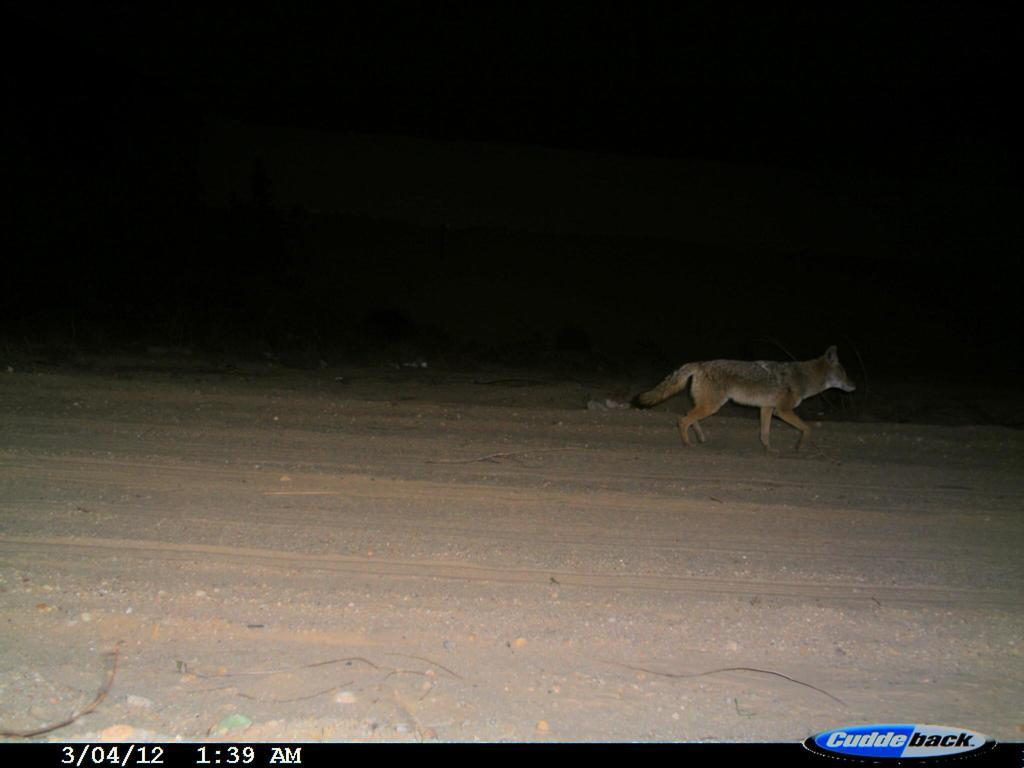coyote: (626, 337, 861, 455)
